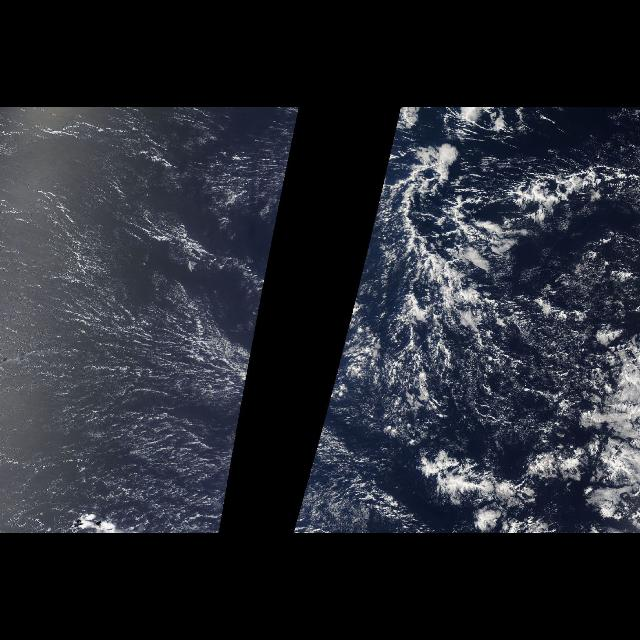Sugar: (7, 114, 300, 530), (292, 134, 393, 530), (423, 276, 571, 434)
